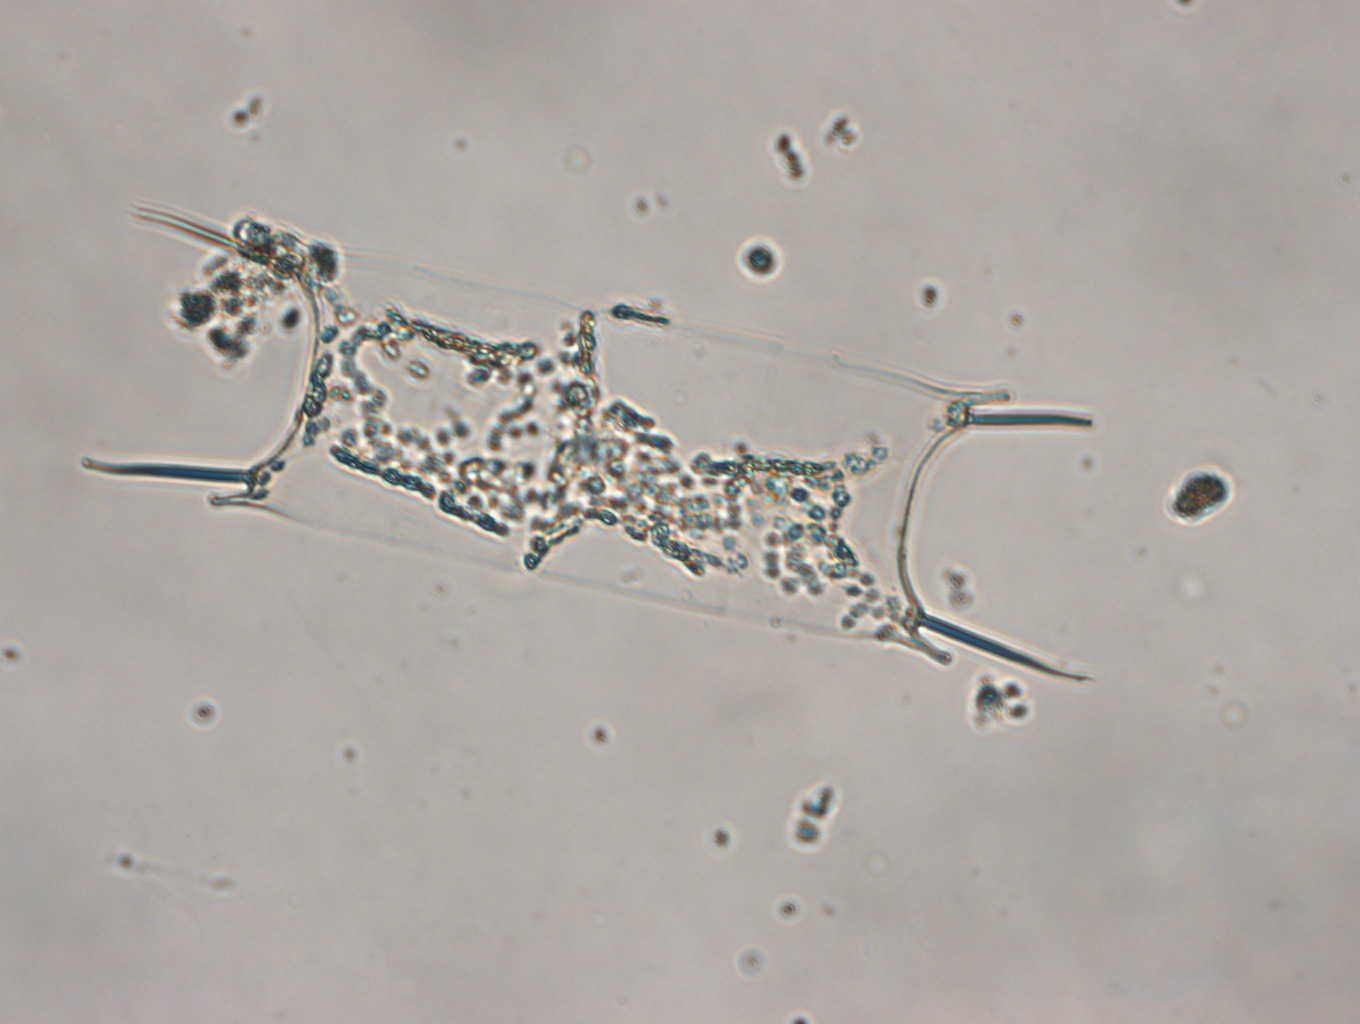biddulphia: (87, 208, 1091, 678)
